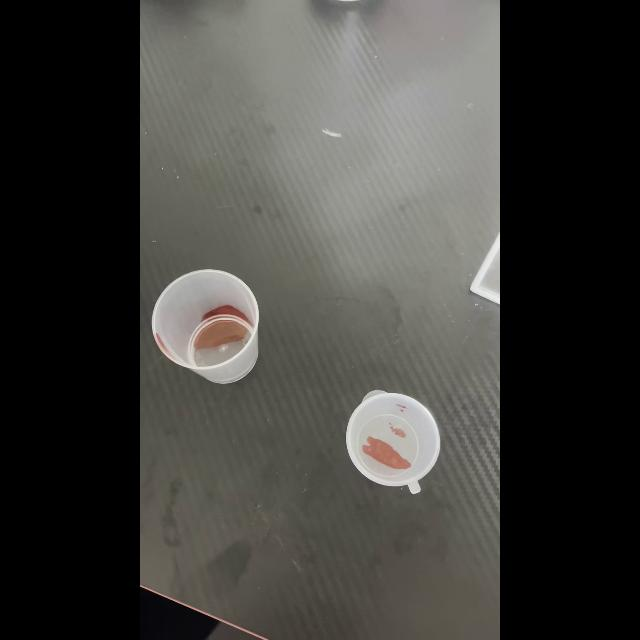dirty: (150, 270, 260, 382), (346, 391, 442, 492)
